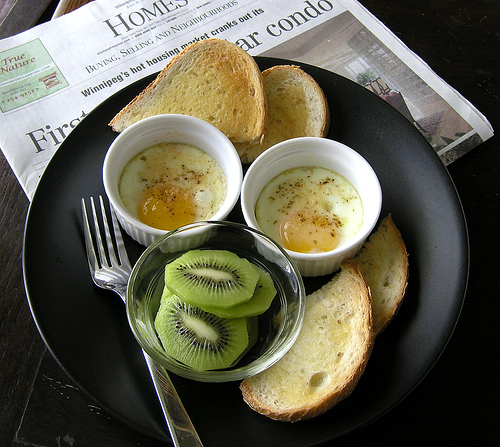egg: (253, 164, 365, 254), (120, 139, 233, 227)
